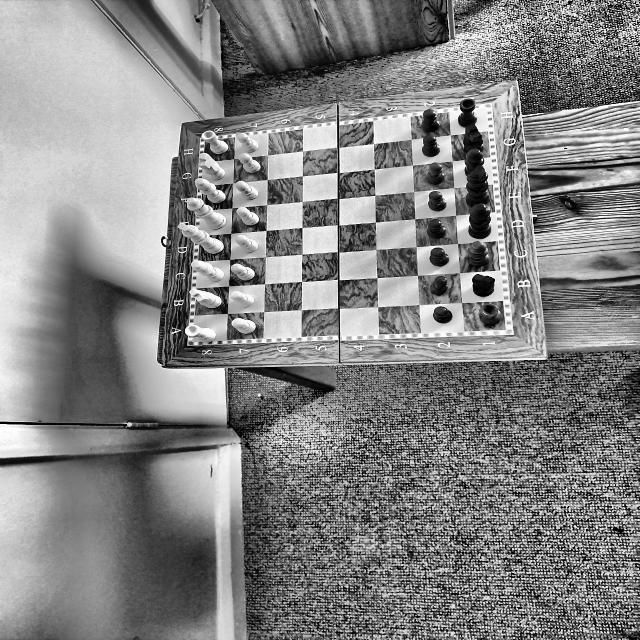black-bishop: (461, 149, 489, 178), (465, 240, 493, 266)
black-king: (464, 165, 493, 206)
black-knight: (469, 272, 500, 298), (462, 124, 485, 155)
black-pawn: (427, 276, 456, 297), (420, 135, 444, 158), (427, 246, 451, 269), (432, 304, 456, 326), (424, 192, 450, 212), (425, 218, 448, 240), (421, 109, 442, 133), (427, 162, 447, 186)
black-queen: (466, 202, 497, 242)
black-rook: (456, 98, 484, 125), (479, 304, 505, 328)
white-bishop: (188, 259, 230, 283), (192, 179, 230, 203)
white-king: (177, 221, 226, 254)
white-knight: (195, 152, 227, 180), (185, 289, 226, 310)
white-pawn: (232, 206, 265, 228), (232, 180, 266, 200), (236, 152, 263, 175), (227, 290, 258, 309), (228, 264, 260, 282), (234, 133, 264, 152), (231, 316, 258, 334), (235, 234, 259, 254)
white-queen: (184, 197, 231, 230)
white-rook: (196, 129, 231, 154), (182, 322, 220, 343)
